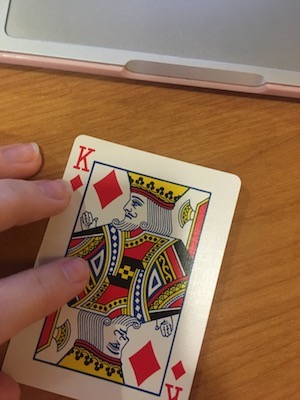KingOfDiamonds: (7, 132, 250, 400)
